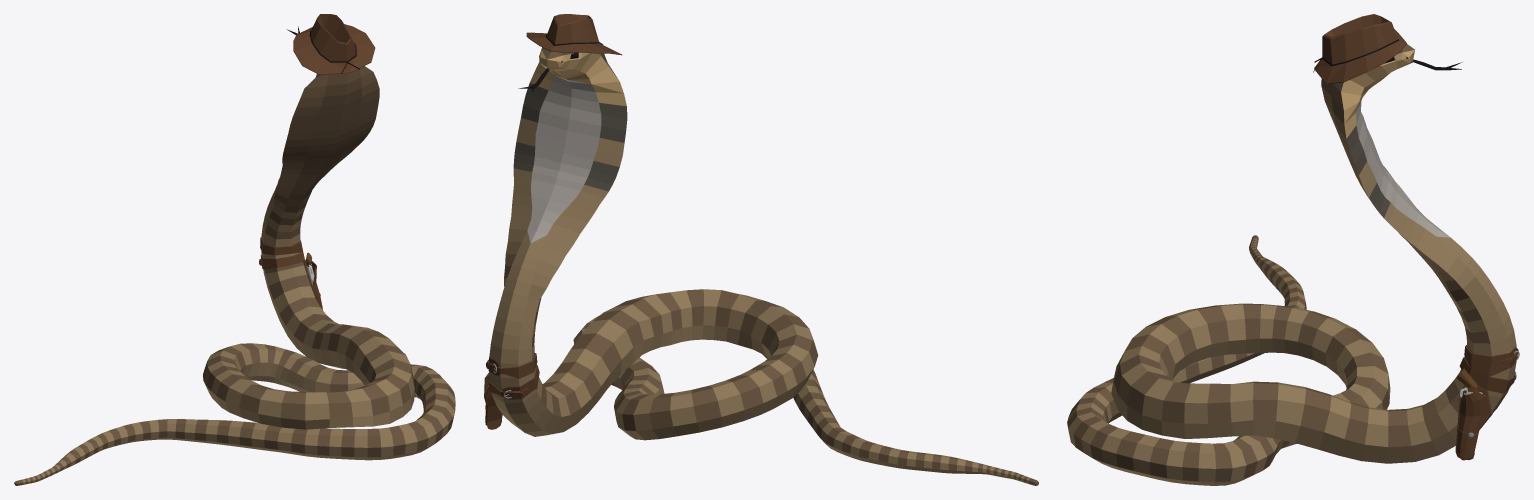
File: snake.glb
3 views of the same model, side by side, from view 1: azimuth 30°, elevation 25°; view 2: azimuth 150°, elevation 25°; view 3: azimuth 270°, elevation 25° (orthographic). The views are drawn at different scales.
Visible parts, largest first — view 1: Cube.002_3, Cube.001_2; view 2: Cube.002_3, Cube.001_2; view 3: Cube.002_3, Cube.001_2.
Boxes of the visible parts, x1,y1,x2,y2 form: Cube.002_3: (14,26,455,485); Cube.001_2: (293,14,375,75); Cube.002_3: (484,47,1038,485); Cube.001_2: (526,14,621,55); Cube.002_3: (1067,44,1519,485); Cube.001_2: (1313,14,1406,84).
Size of the model in its own units: 9.65 by 7.88 by 7.24.
